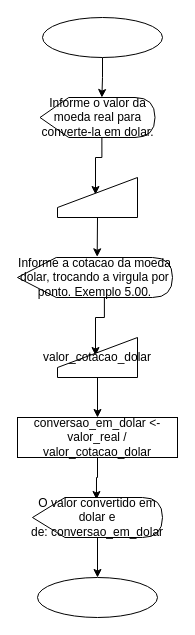
This 195x635 diagram has some shape labels left out. Each missing label, with the box of its shape:
Fim: (36, 576, 158, 618)
Início: (42, 16, 162, 58)
valor_real: (56, 176, 138, 218)
